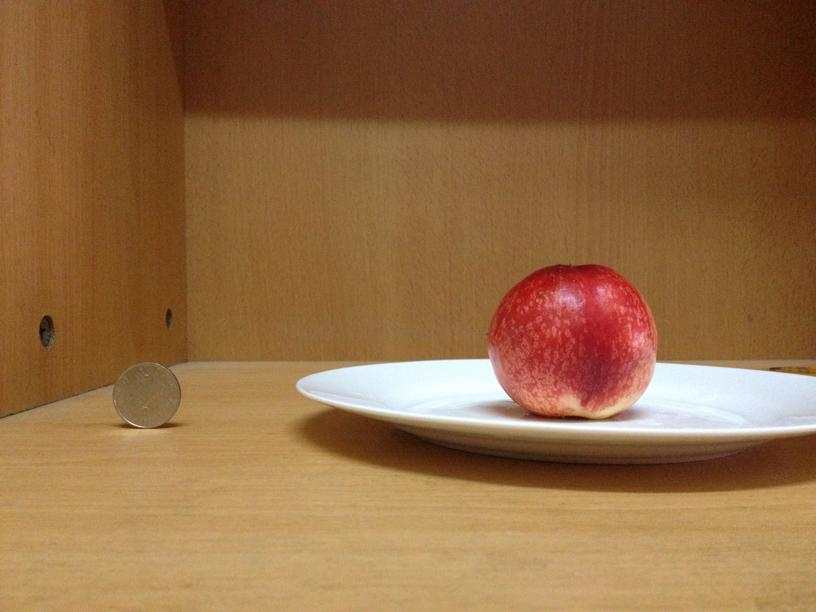coin: (112, 360, 183, 428)
peach: (485, 262, 657, 419)
